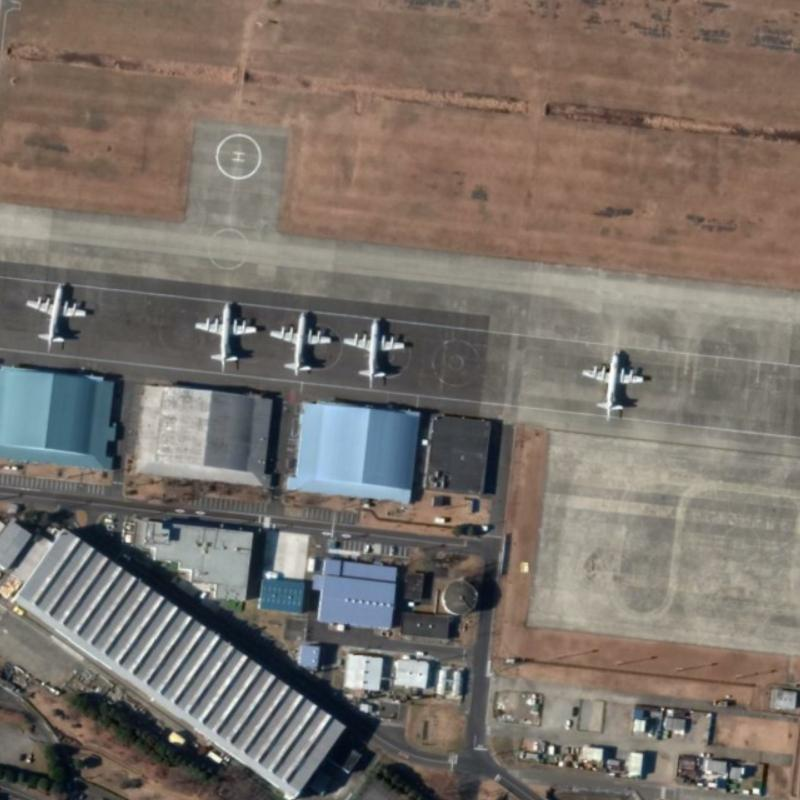A9: (186, 293, 264, 372), (21, 273, 92, 358), (342, 311, 414, 391), (576, 345, 654, 418), (266, 301, 339, 377)
